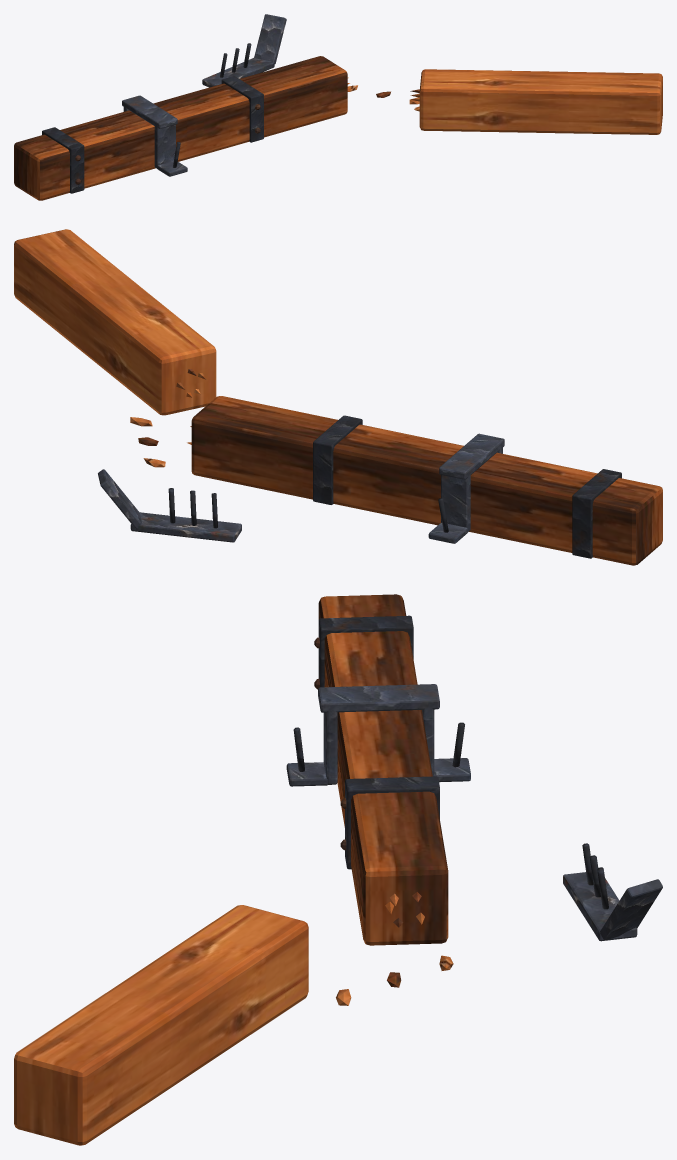
File: mg_gate_bar_snapped.glb
The picture shows the model from 3 angles, top to bottom: view 1: azimuth 30°, elevation 25°; view 2: azimuth 150°, elevation 25°; view 3: azimuth 270°, elevation 25°; orthographic projection. The views are drawn at different scales.
Parts seen in each view (by area): view 1: model; view 2: model; view 3: model.
Boxes of the visible parts, left/top/right/bottom form: model: left=14, top=14, right=662, bottom=200; model: left=14, top=229, right=662, bottom=565; model: left=14, top=594, right=662, bottom=1145.
Size of the model in its own units: 1.99 by 0.17 by 1.14.
8 materials, 8 textured.
